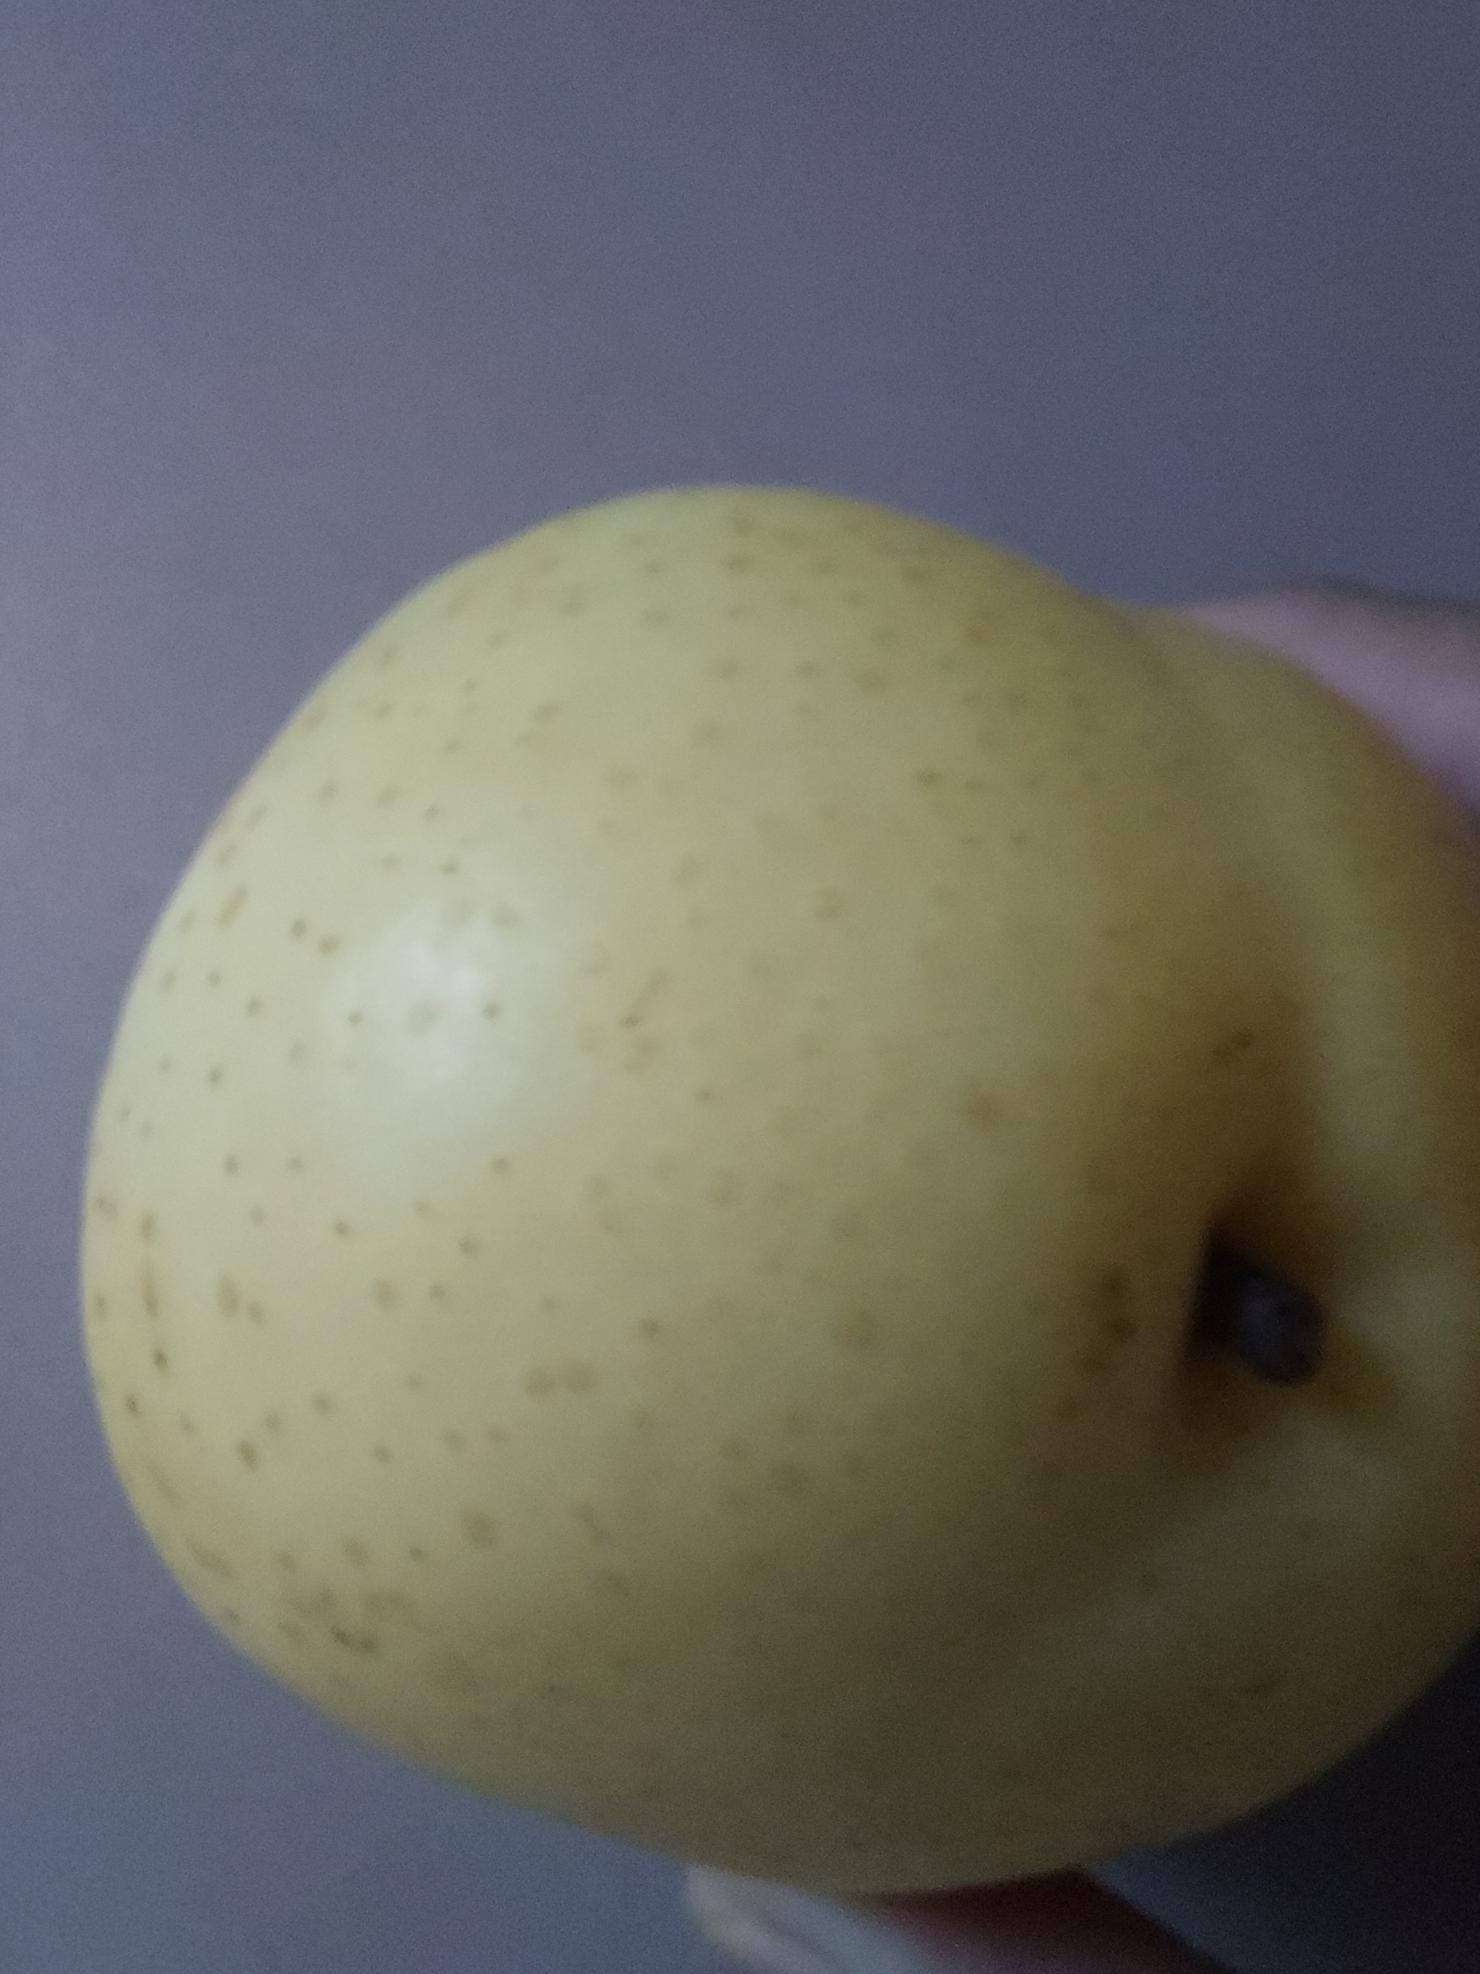Good Pear: (75, 487, 1480, 1892)
